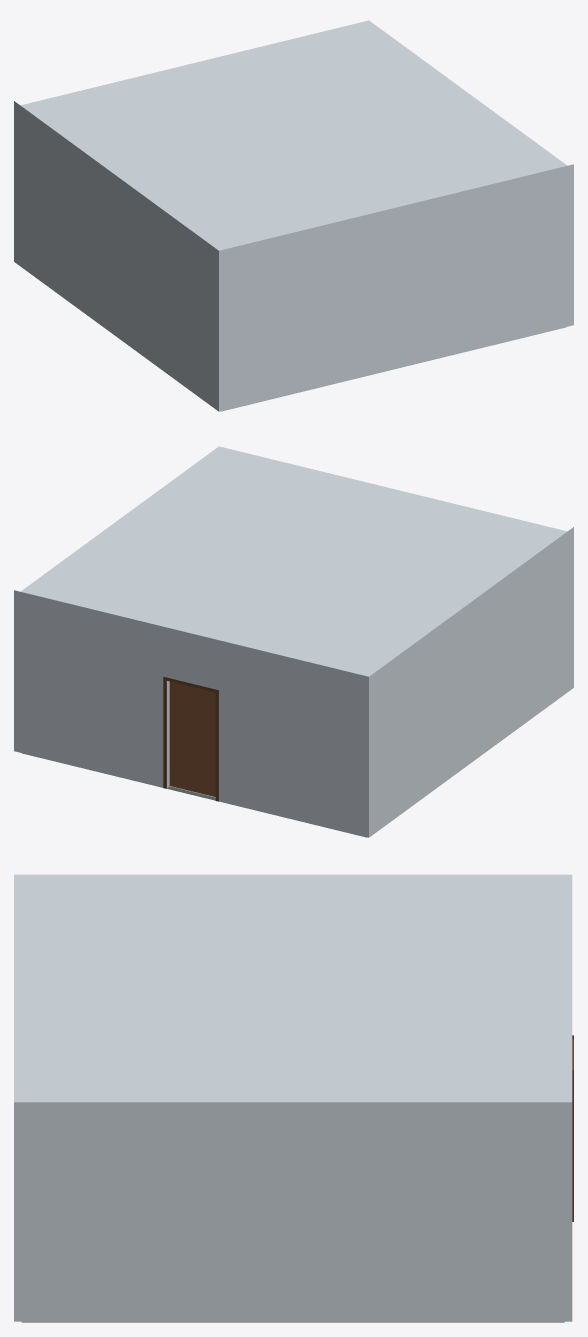
The model's file is room_bath2.glb.
The picture shows the model from 3 angles, top to bottom: view 1: azimuth 30°, elevation 25°; view 2: azimuth 150°, elevation 25°; view 3: azimuth 270°, elevation 25°; orthographic projection. The views are drawn at different scales.
Visible parts, largest first — view 1: WALLS, CEILING; view 2: WALLS, CEILING, DOOR_bed, FRAMES; view 3: CEILING, WALLS, FLOOR_visible.
Boxes of the visible parts, box(x1,y1,x2,y2) form: WALLS: box(14, 107, 573, 411); CEILING: box(14, 20, 573, 256); WALLS: box(14, 533, 573, 837); CEILING: box(14, 446, 573, 682); DOOR_bed: box(170, 681, 215, 796); FRAMES: box(163, 677, 218, 801); CEILING: box(14, 874, 572, 1110); WALLS: box(14, 1110, 572, 1321); FLOOR_visible: box(21, 1321, 564, 1322).
Size of the model in its own units: 7.2 by 3.18 by 7.22.
